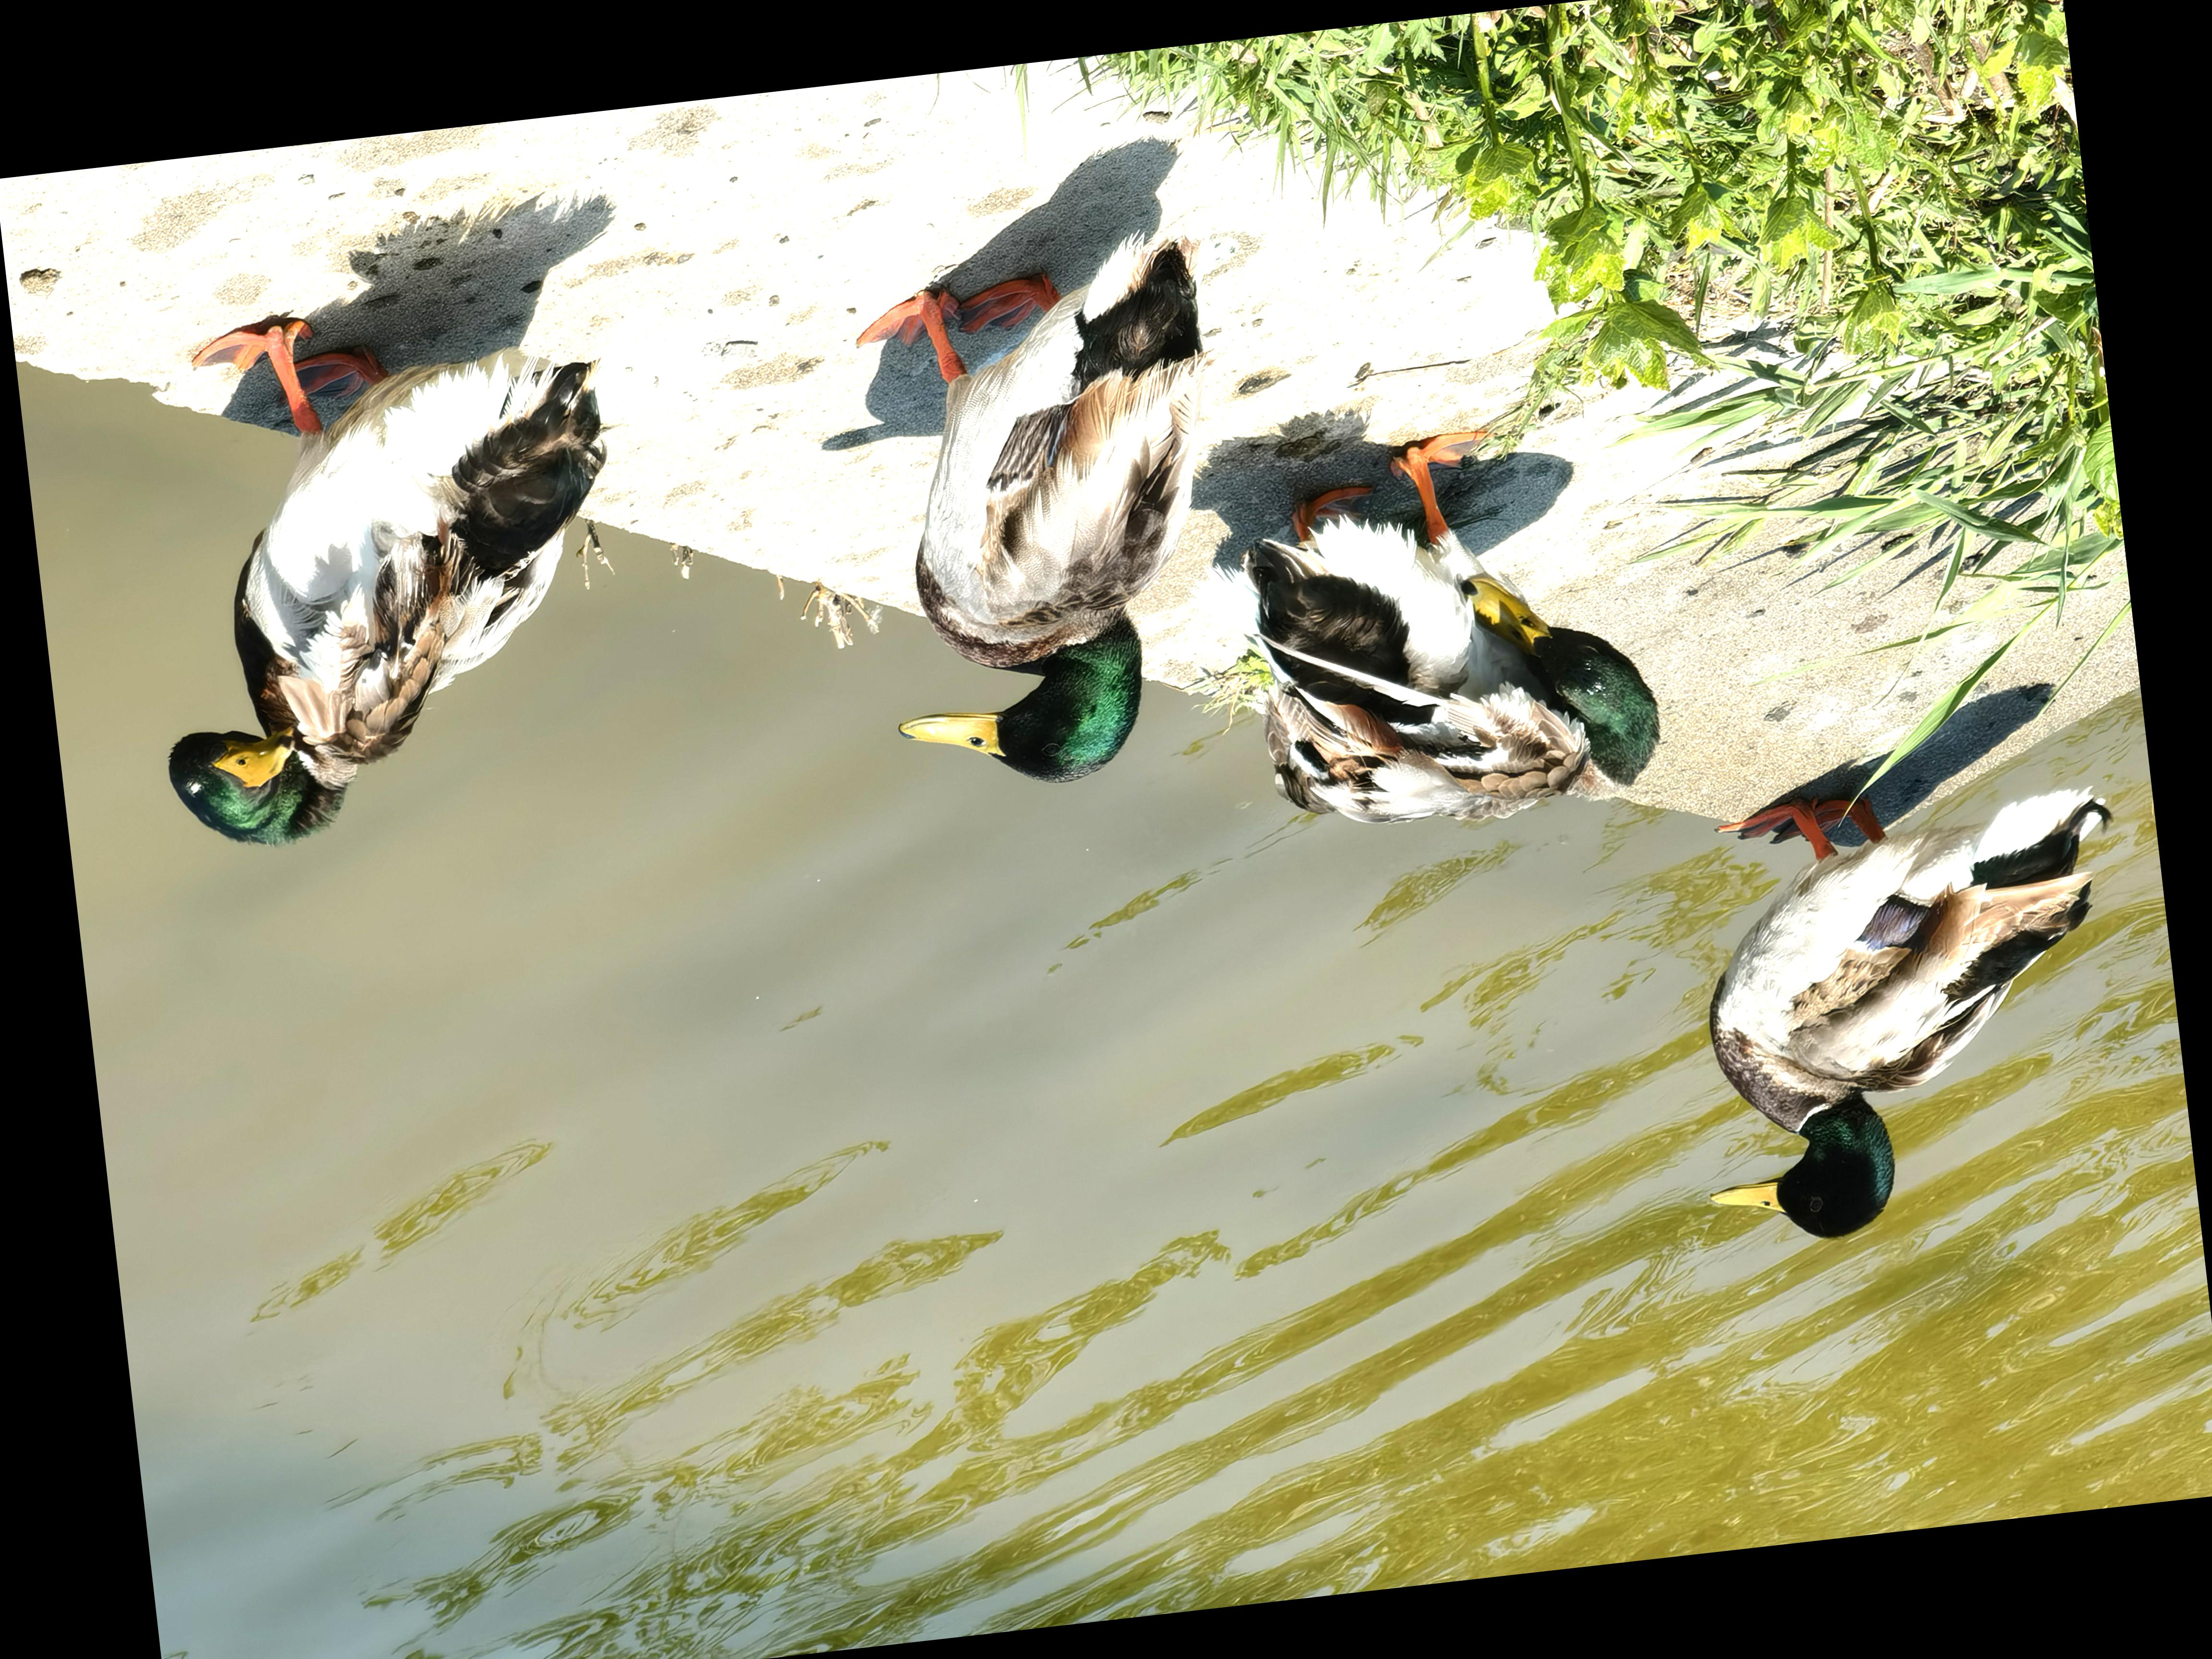duck: (106, 270, 681, 873), (806, 190, 1303, 828), (1639, 718, 2167, 1279), (1172, 410, 1681, 864)
